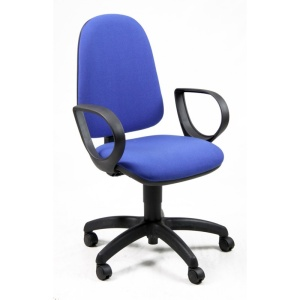chair: (73, 14, 235, 285)
